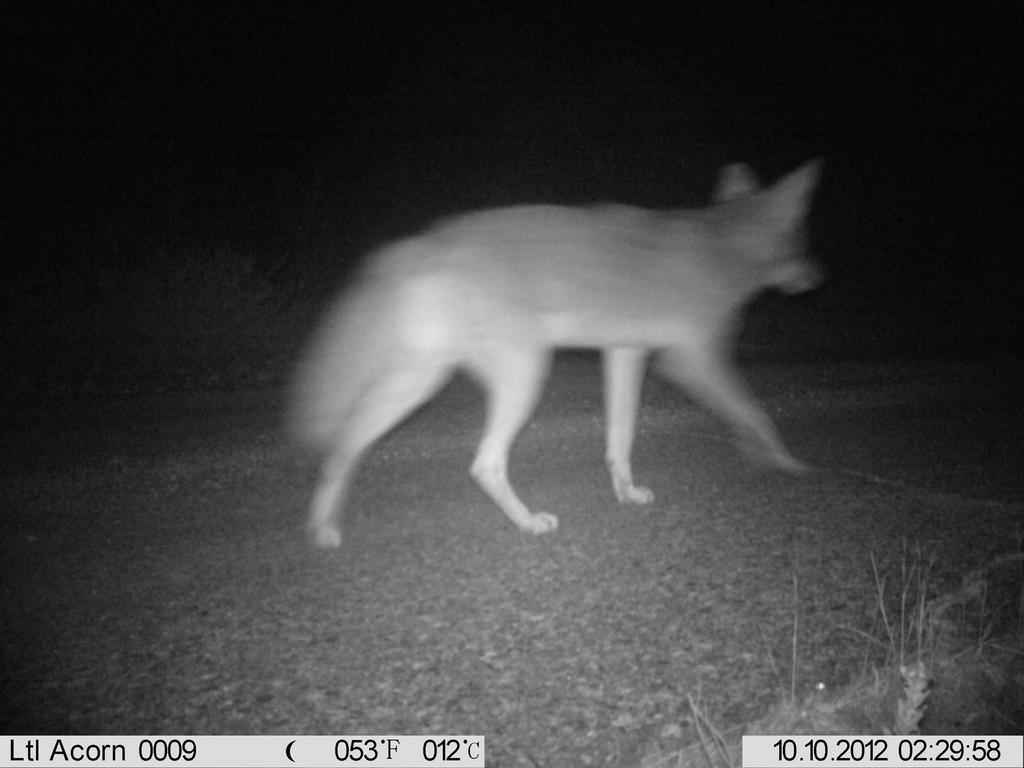coyote: (241, 135, 827, 548)
